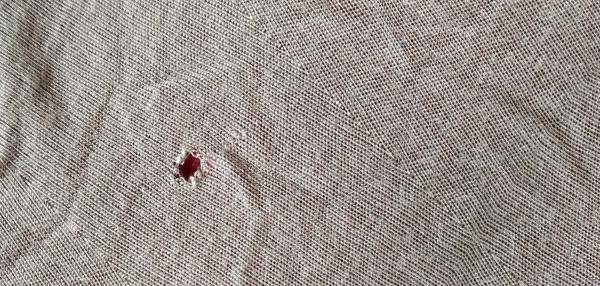hole: (168, 145, 210, 190)
